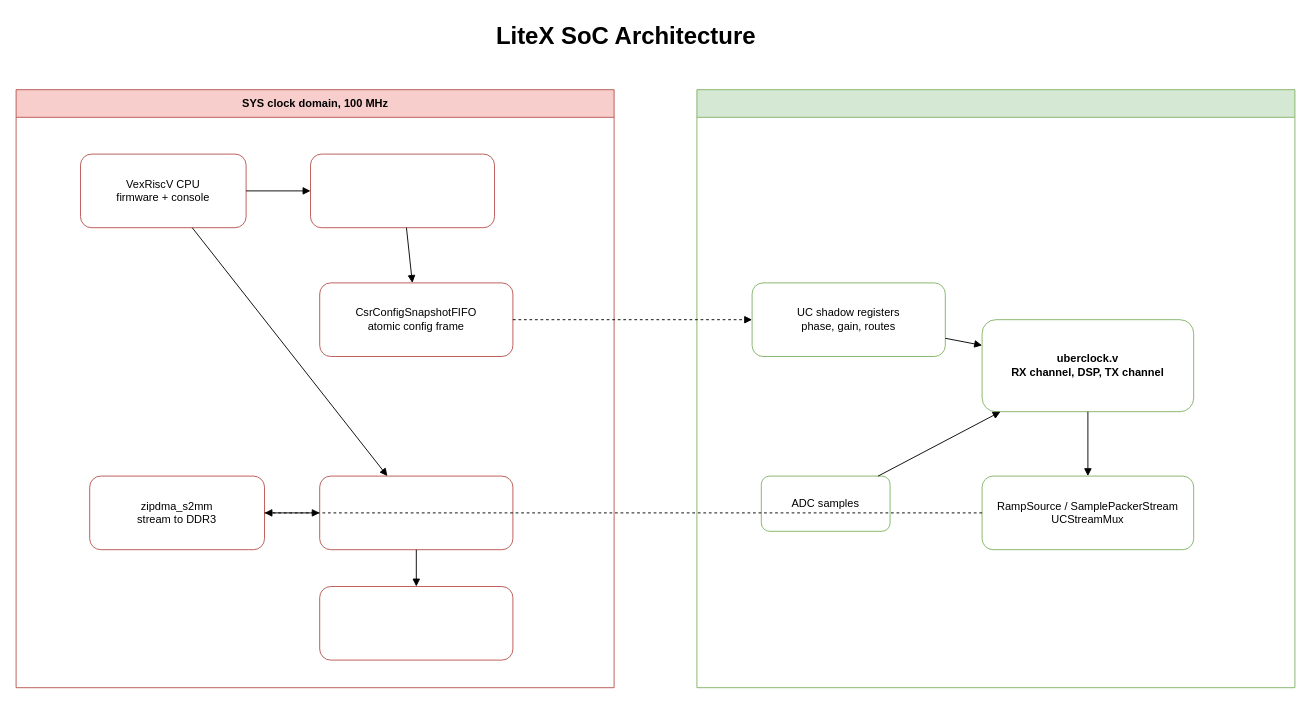
Image size: 1311x704. Some labels were removed from this diagram. Each missing label, with the box of its shape:
LiteX CSR bus UberClockCSRBank: (310, 153, 494, 228)
UberDDR3 controller + PHY + side memory: (319, 586, 513, 660)
UC clock domain, 65 MHz: (696, 89, 1295, 688)
Wishbone crossbar CPU + DMA masters: (319, 475, 513, 550)
